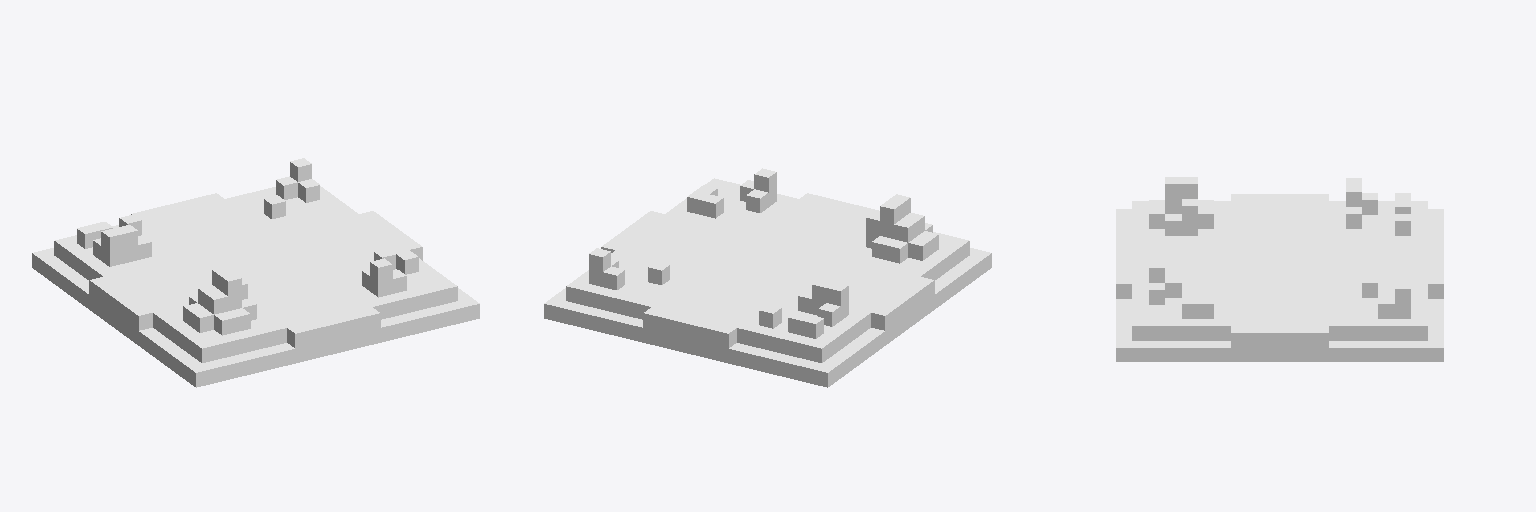
Rendered from crossroadruins.obj.
The picture shows the model from 3 angles: view 1: azimuth 30°, elevation 25°; view 2: azimuth 150°, elevation 25°; view 3: azimuth 270°, elevation 25°; orthographic projection.
Bounding box in the file's own units: 20 × 5 × 20.